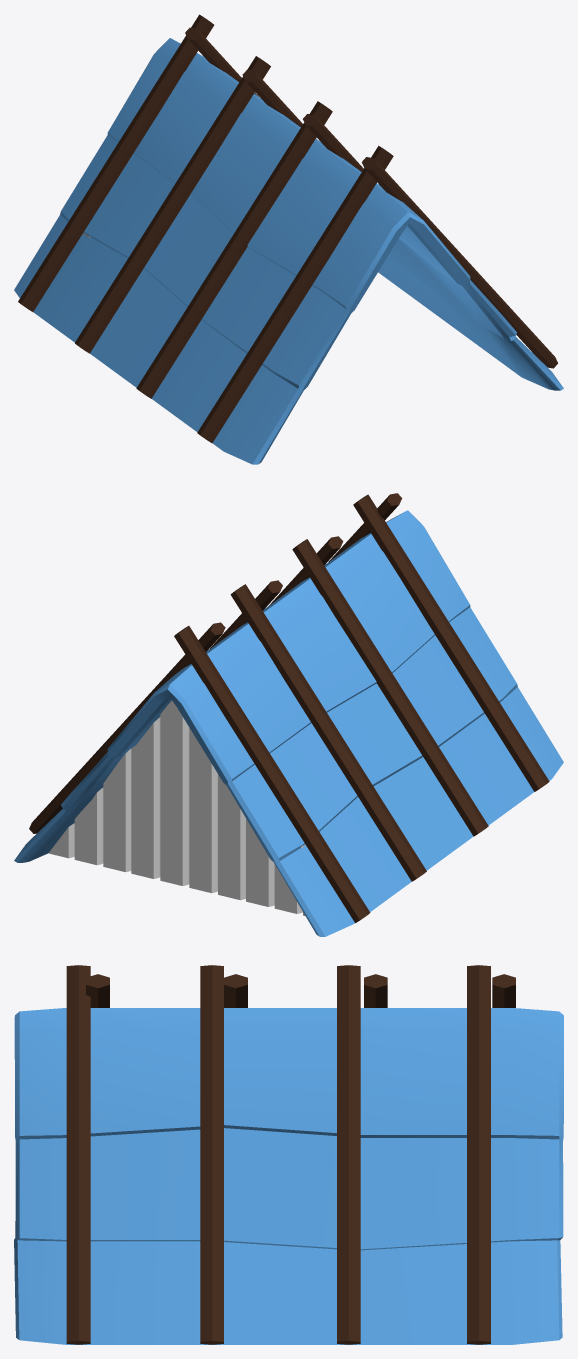
Rendered from Tent 2.fbx.
The picture shows the model from 3 angles, top to bottom: view 1: azimuth 30°, elevation 25°; view 2: azimuth 150°, elevation 25°; view 3: azimuth 270°, elevation 25°; orthographic projection. The views are drawn at different scales.
Parts seen in each view (by area): view 1: Tent 2; view 2: Tent 2; view 3: Tent 2.
Boxes of the visible parts, box(x1,y1,x2,y2) form: Tent 2: box(14, 14, 563, 464); Tent 2: box(14, 493, 563, 936); Tent 2: box(14, 965, 563, 1344).
Bounding box in the file's own units: 2.85 × 1.97 × 3.45.
